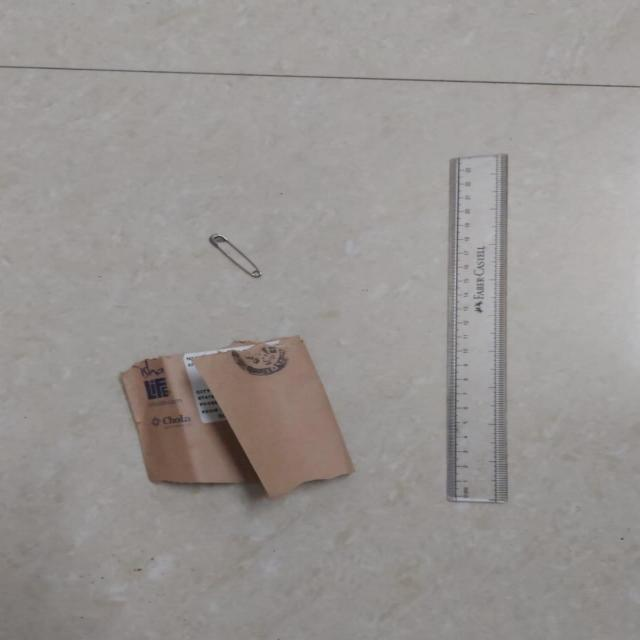metal: (209, 232, 262, 278)
paper: (116, 334, 356, 500)
plastic: (443, 152, 513, 510)
